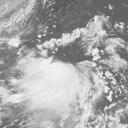cyclone: (21, 62, 79, 112)
